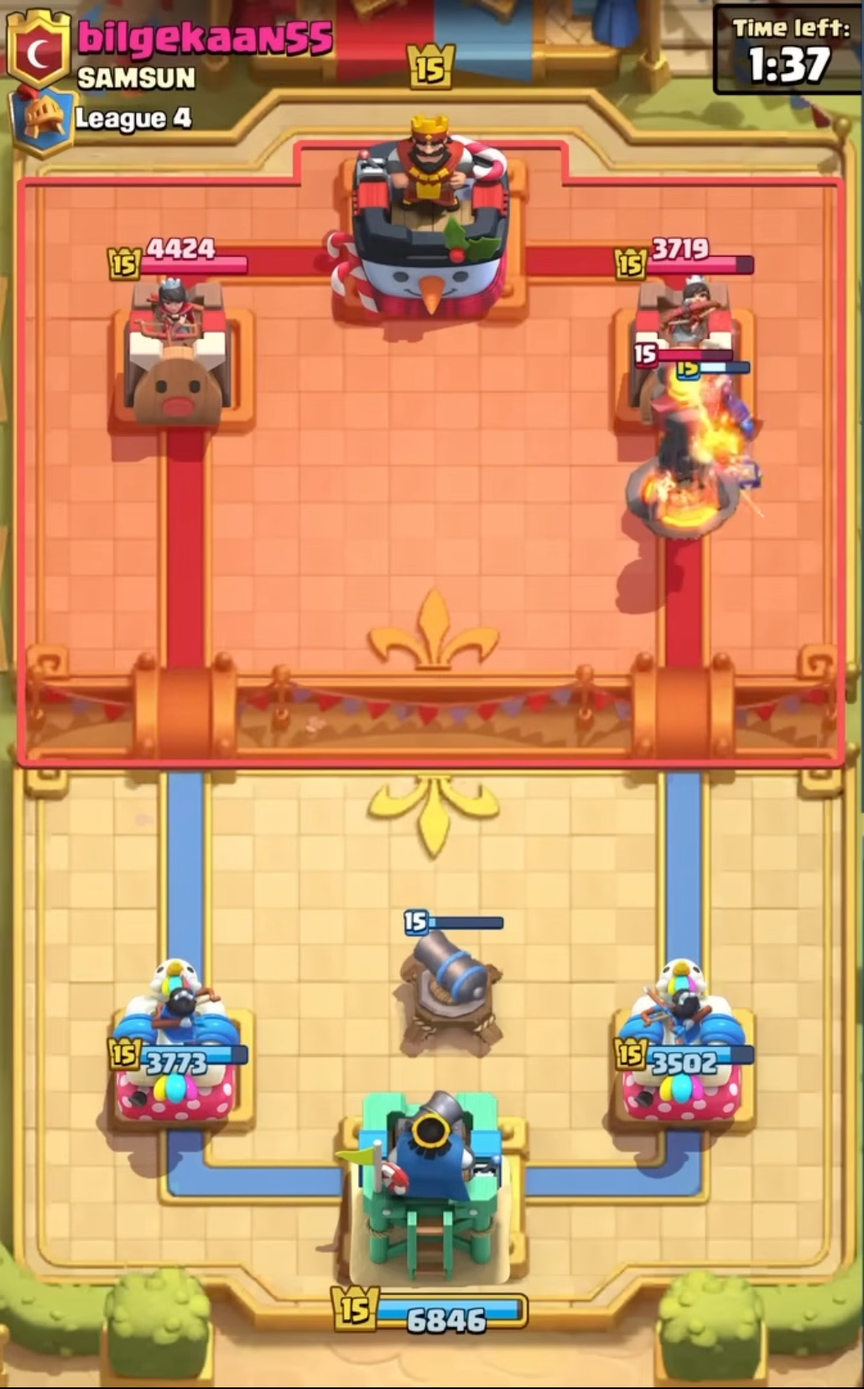cannon: (380, 894, 525, 1067)
